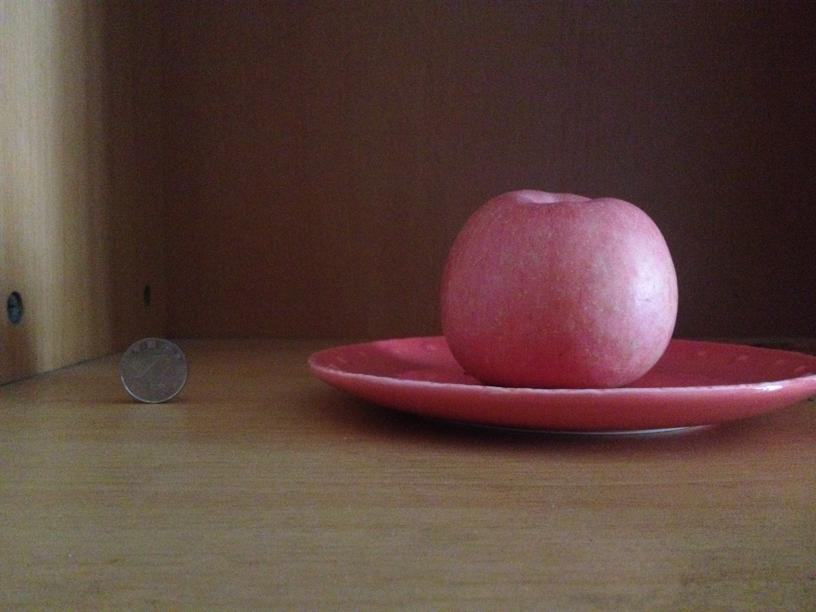apple: (439, 185, 679, 386)
coin: (119, 336, 189, 403)
